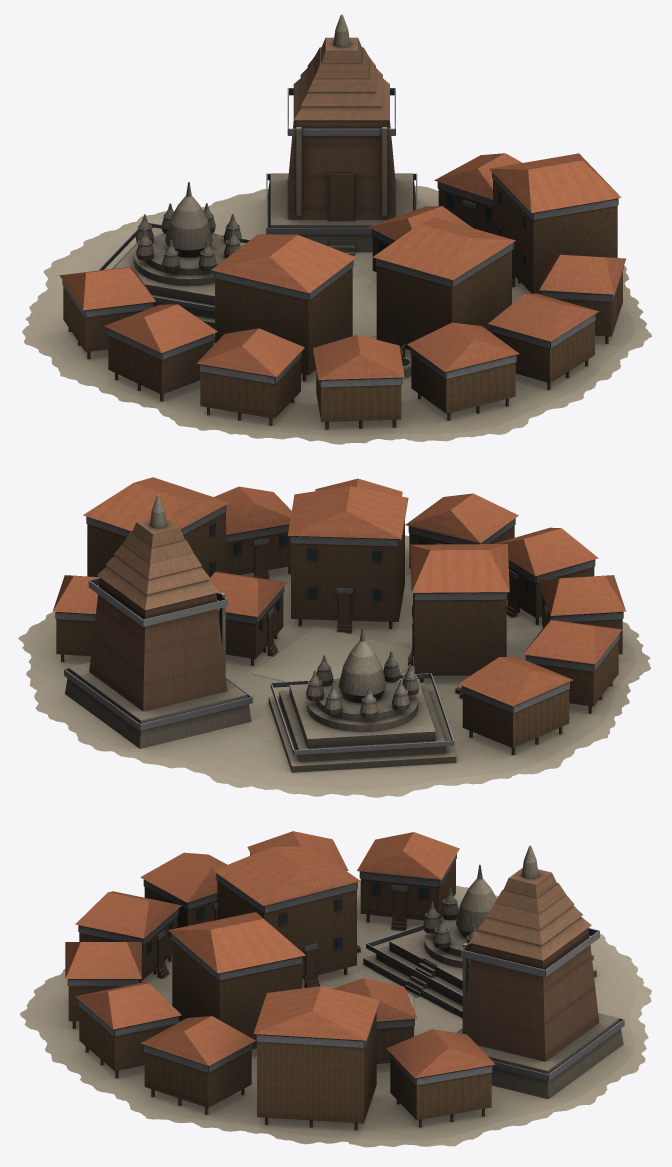
Rendered from classical-town-medium-b-monsoon.glb.
The picture shows the model from 3 angles, top to bottom: view 1: azimuth 30°, elevation 25°; view 2: azimuth 150°, elevation 25°; view 3: azimuth 270°, elevation 25°; orthographic projection.
Visible parts, largest first — view 1: LOD0; view 2: LOD0; view 3: LOD0.
Boxes of the visible parts, box(x1,y1,x2,y2) form: LOD0: box(22, 14, 651, 444); LOD0: box(18, 477, 650, 797); LOD0: box(20, 831, 651, 1147).
Size of what is drawn, in the model's own units: 5.97 by 2.2 by 5.97.
Materials: 3 (3 with a texture image).
